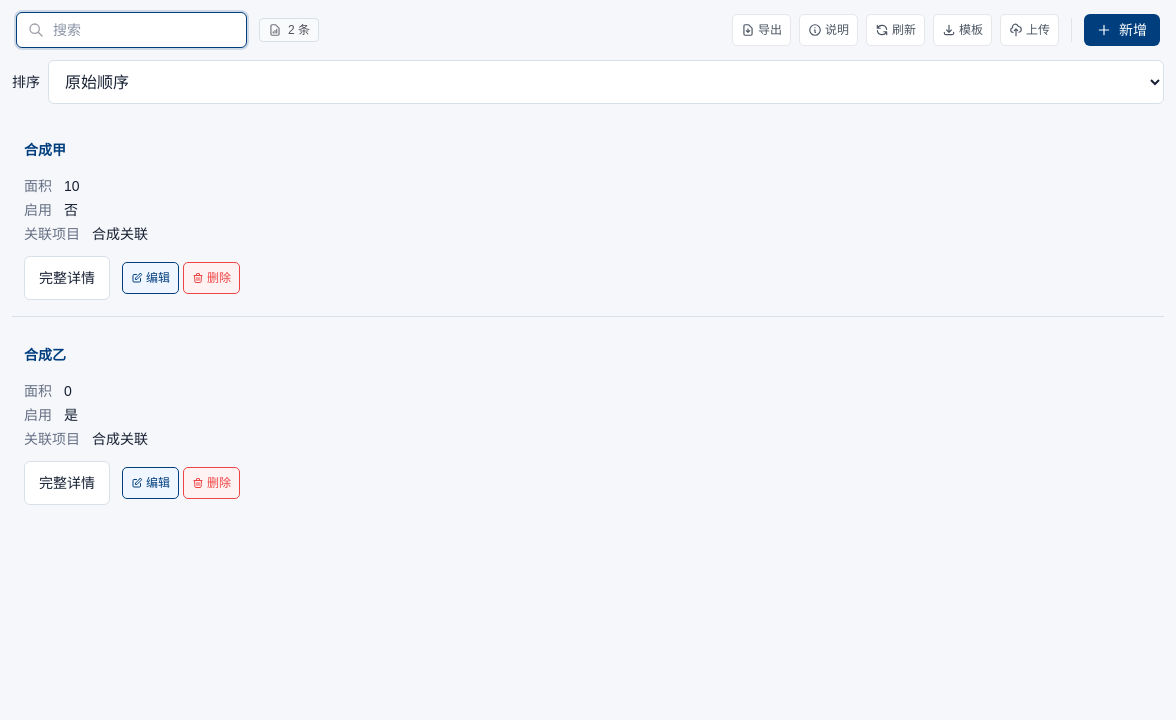
Test: mobile record controller and confirmation › keeps the grid toolbar search input focused during result updates
Expected: the button "合成甲" is shown, left=24, top=128, right=1152, bottom=172
Type "甲" into the field with placeholder "搜索" at {"x": 132, "y": 30}, box left=16, top=12, right=247, bottom=48
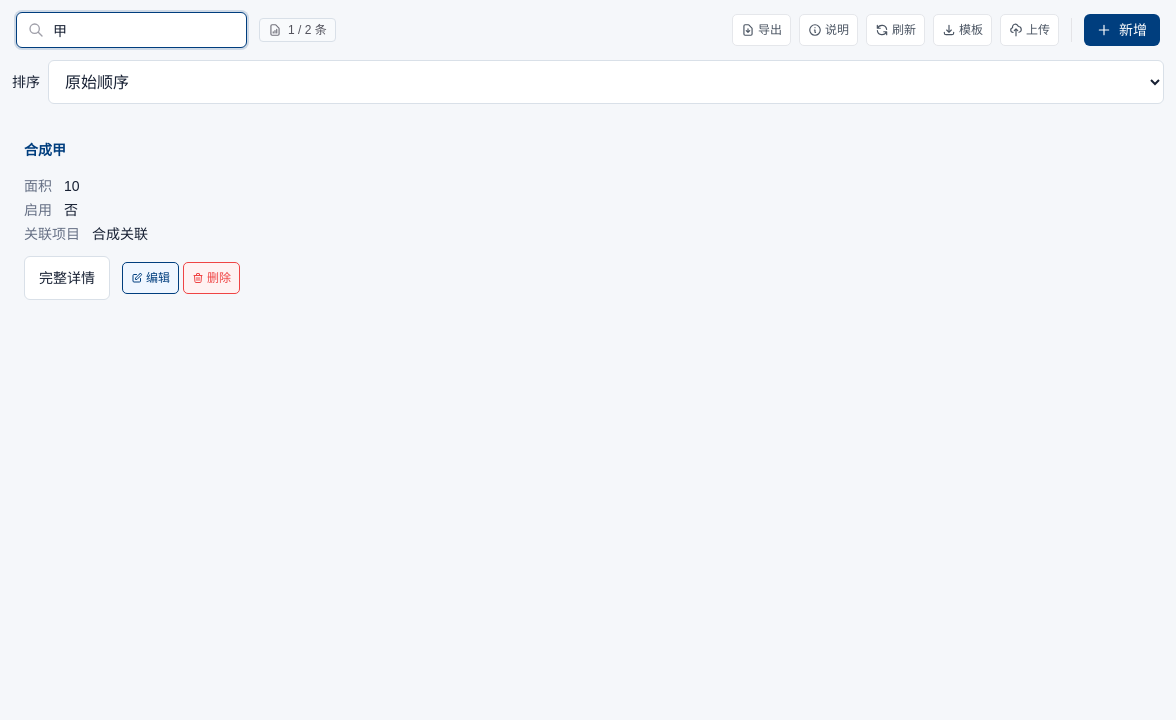
Now the button "合成乙" is gone
Replace the text in the field with placeholder "搜索" with "乙" at {"x": 132, "y": 30}, box left=16, top=12, right=247, bottom=48
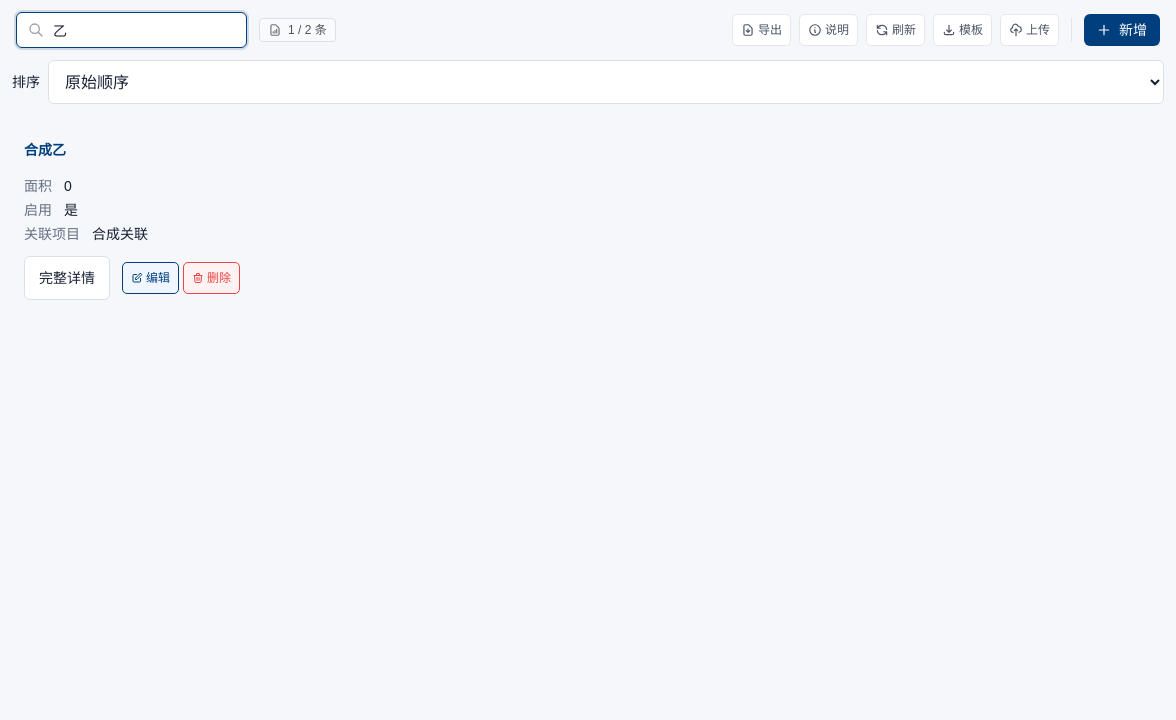
Now the button "合成甲" is gone
Now the button "合成乙" is shown, box left=24, top=128, right=1152, bottom=172
